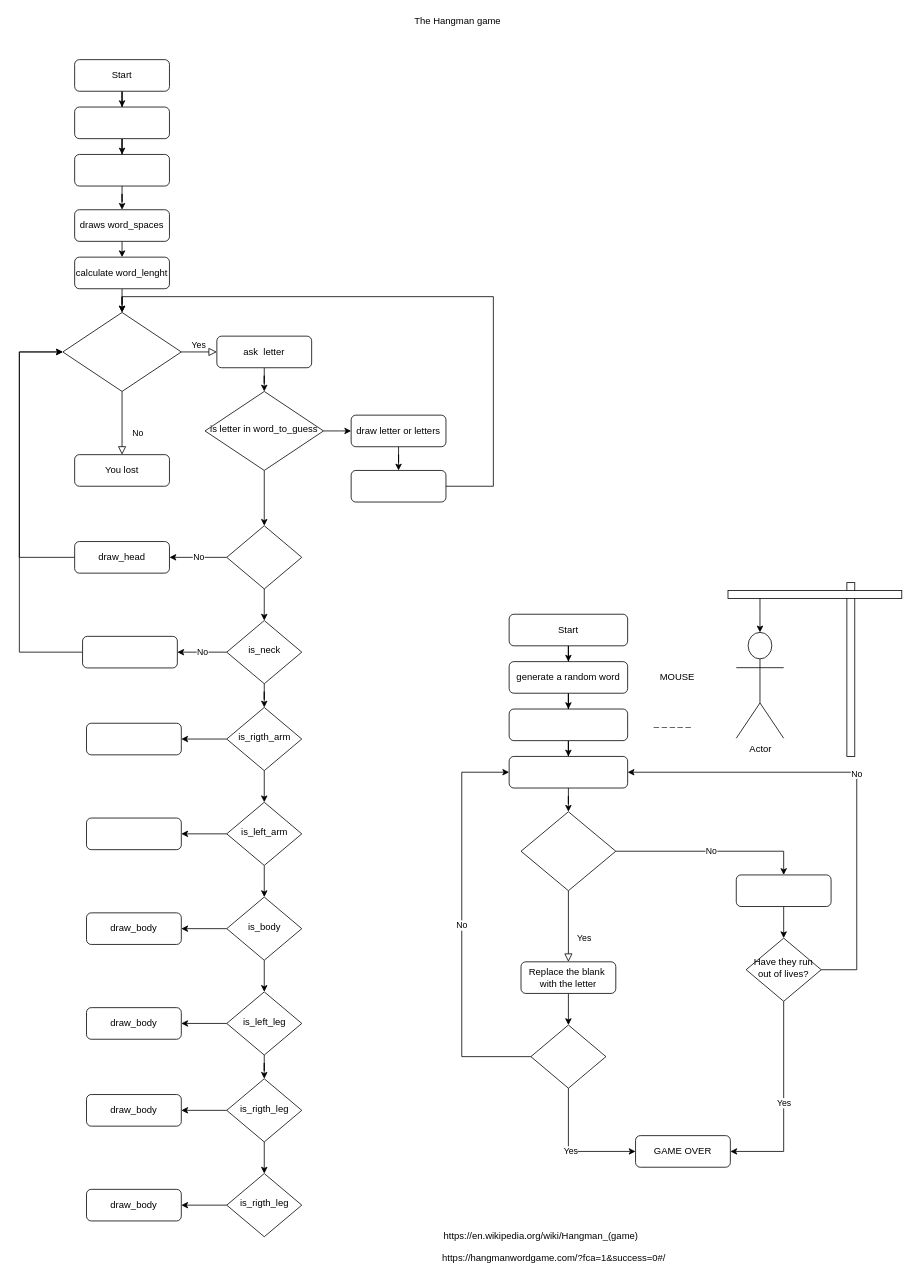
Image size: 916x1279. Some labels were removed from this diagram. Each missing label, with the centre of its shape:
Are all the blnaks filled?: [568,1056]
Ask the user to guess a letter: [568,772]
draw gallows: [121,170]
draw_left_ arm: [133,833]
draw_neck: [129,652]
draw_rigth arm: [133,738]
Generate as many blanks as letters in word: [568,724]
is the guessed letter in the word?: [568,851]
is_head: [264,557]
Lose a life: [783,890]
set word to guess: [121,122]
while word_lengt > 0 and body not complete: [121,351]
word_lenght - 1: [398,486]
